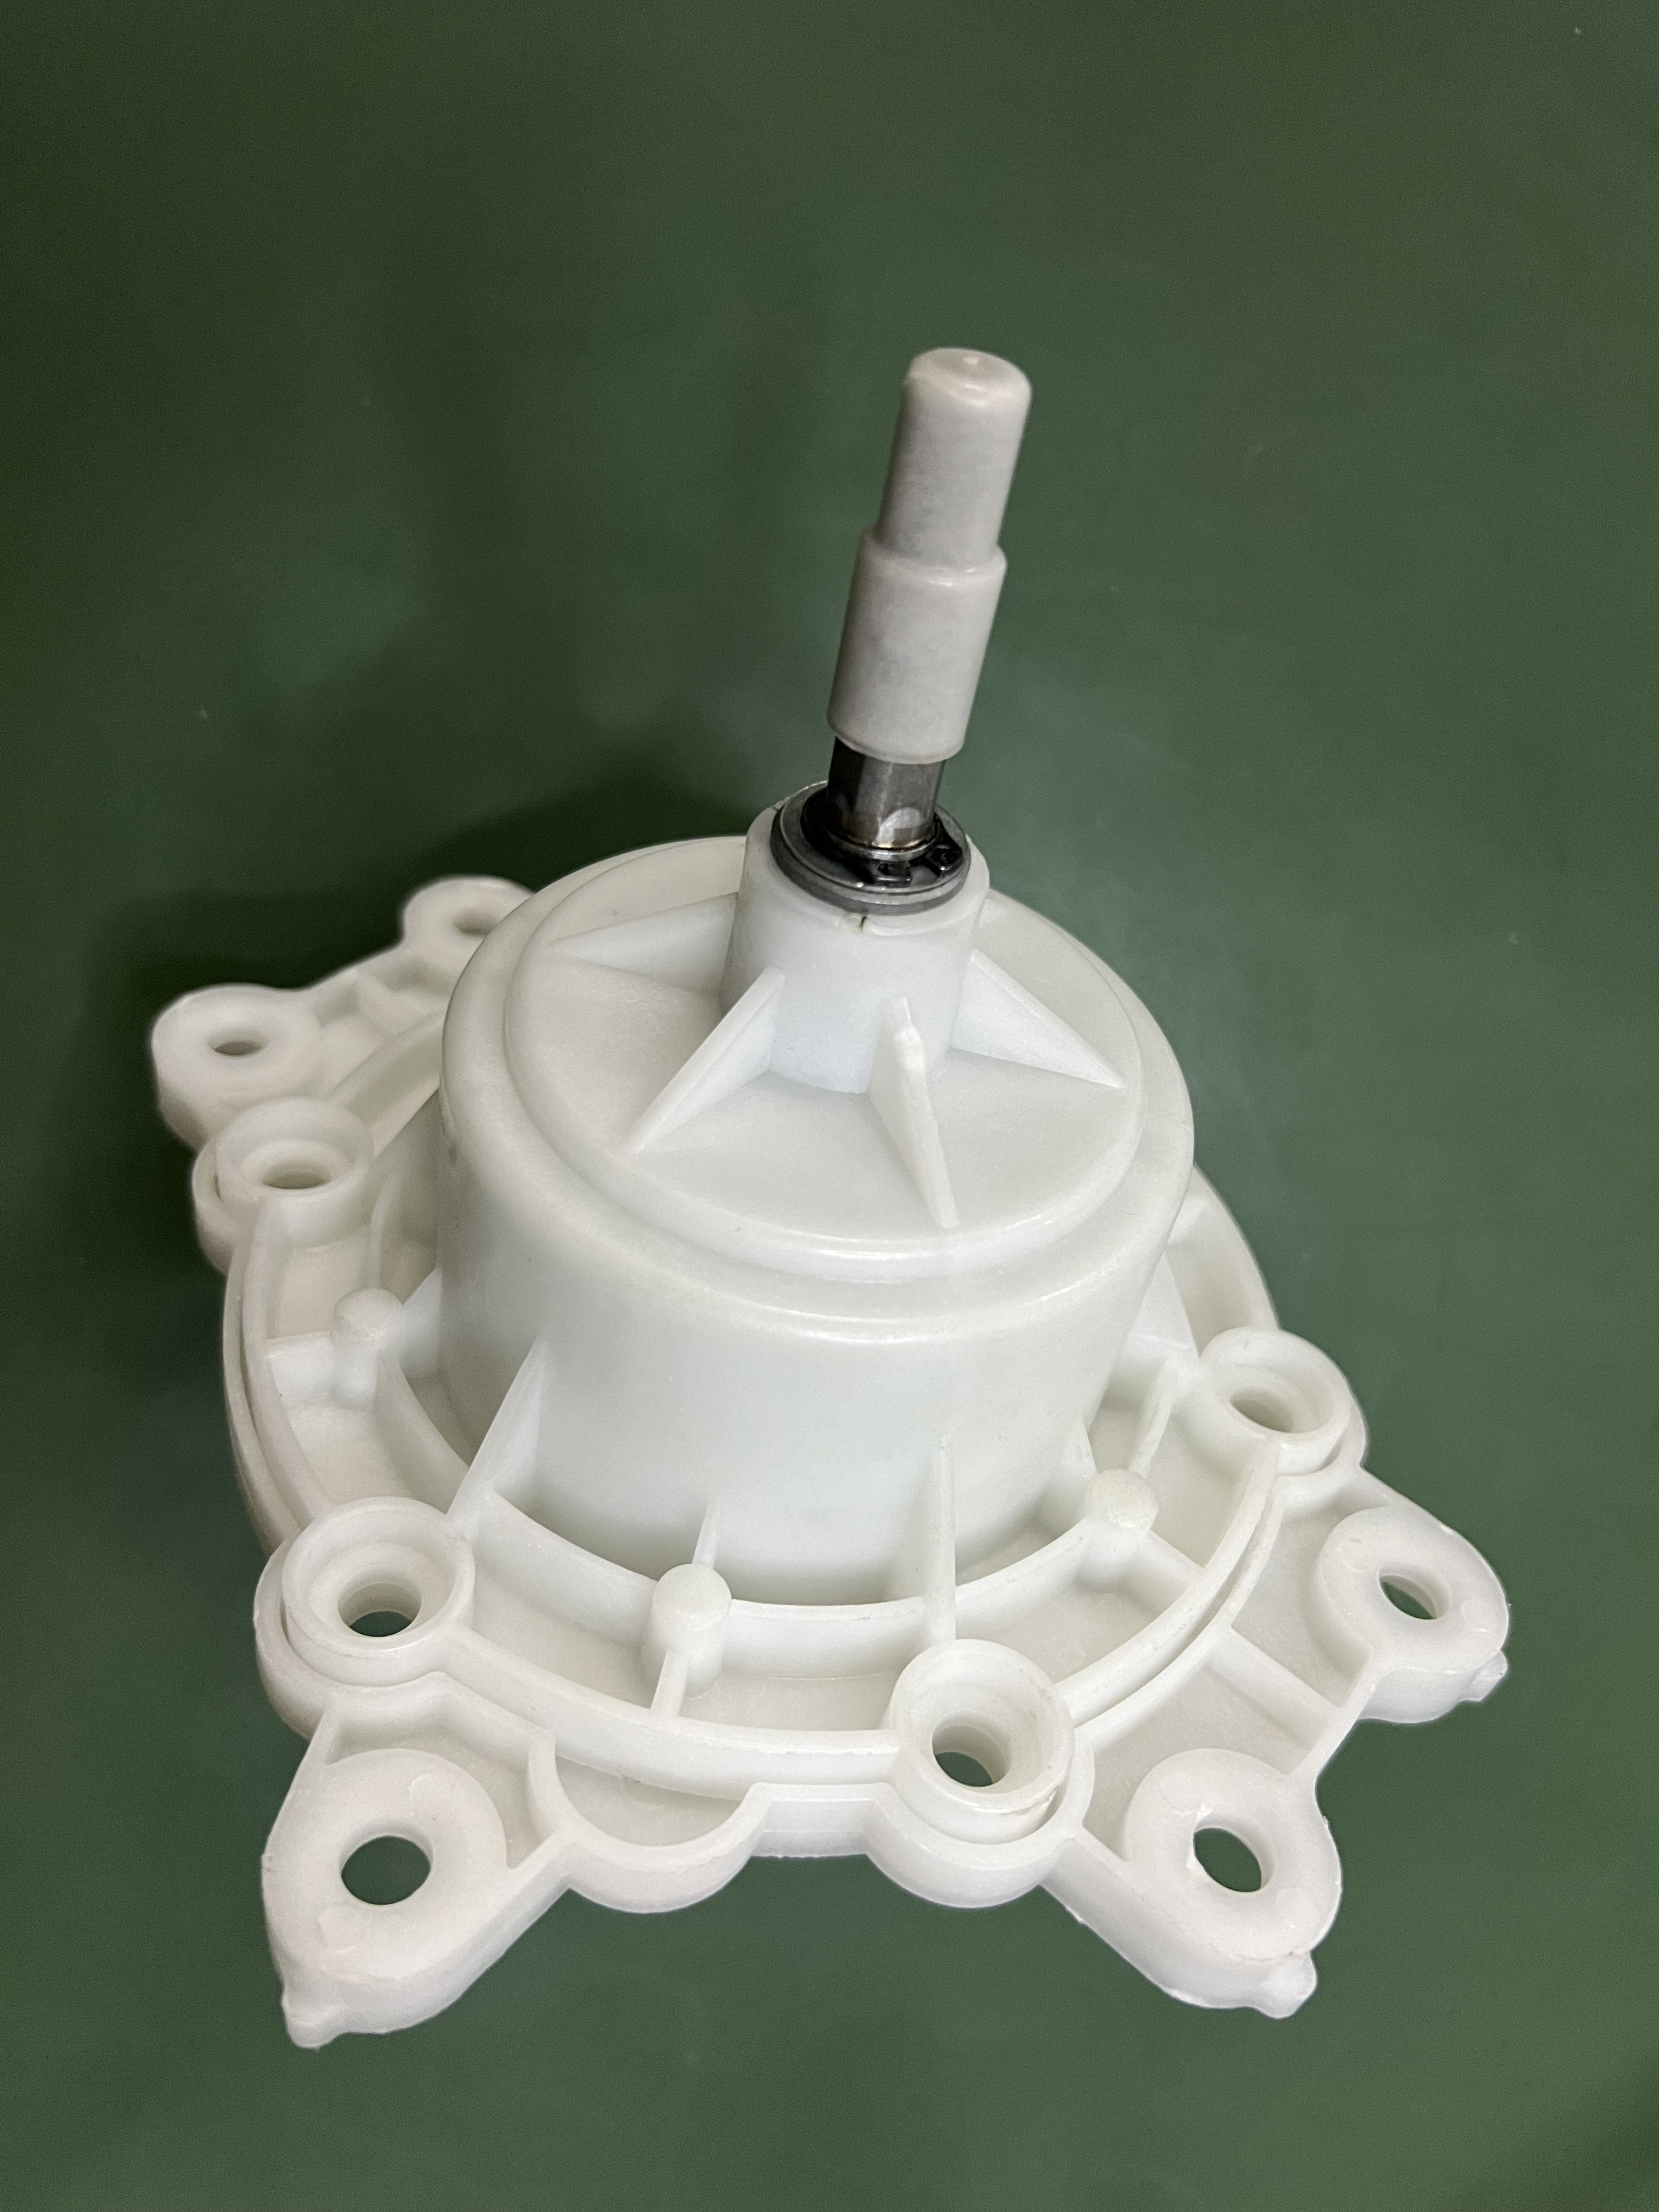gear_box_design: (171, 317, 1516, 2034)
